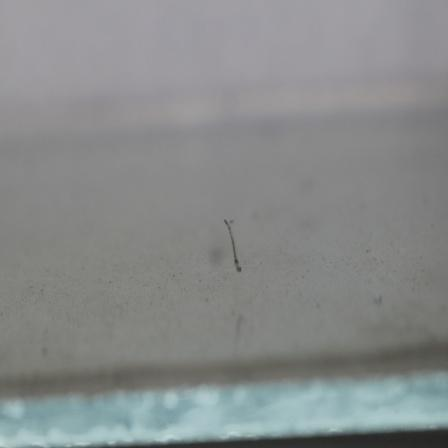Jentik-Nyamuk: (219, 216, 247, 274)
